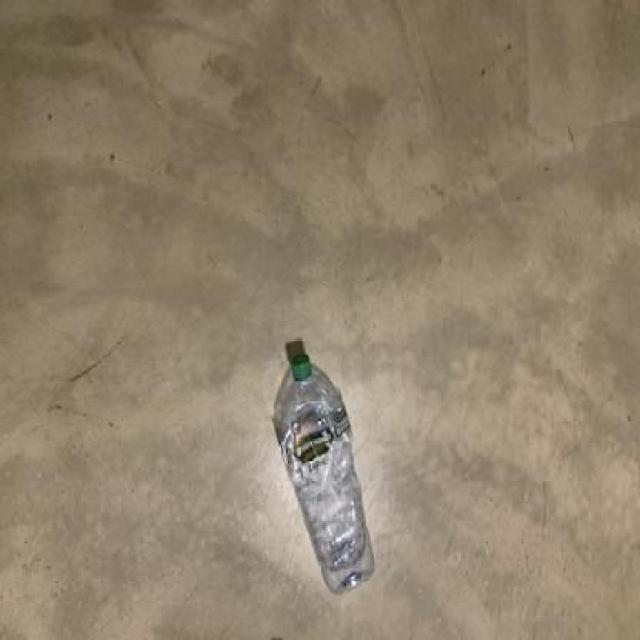trash: (273, 350, 375, 598)
